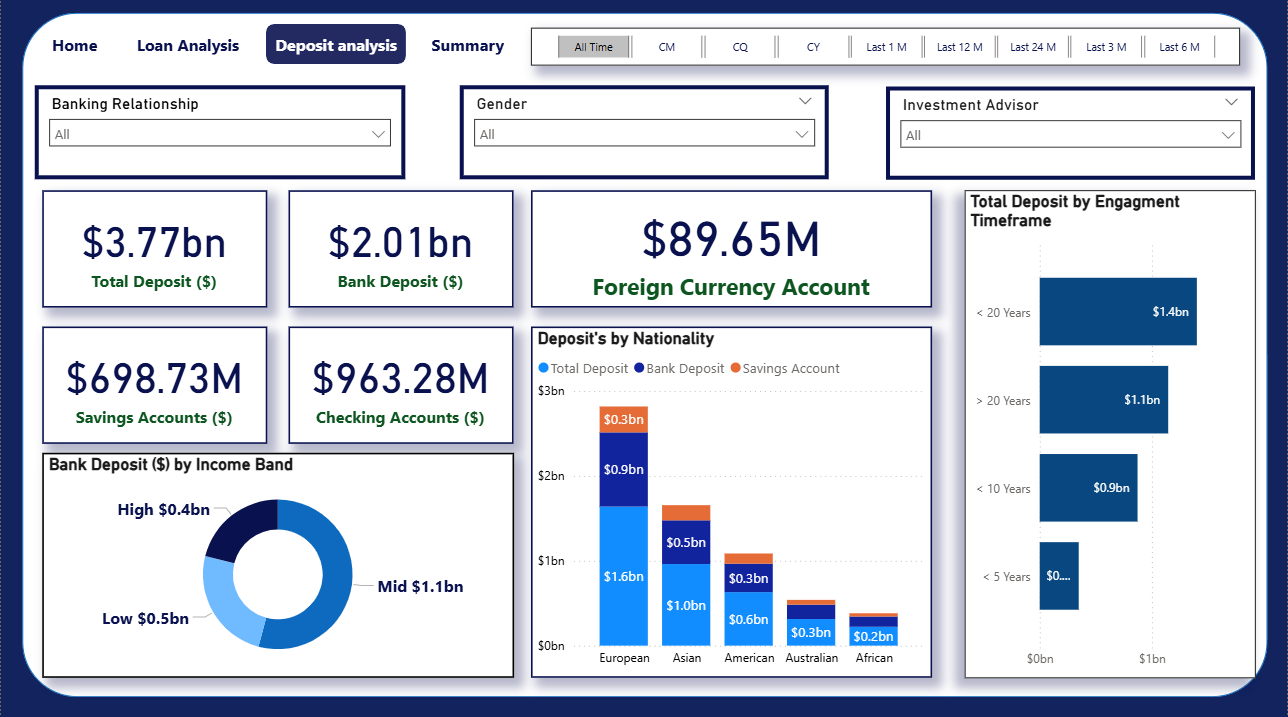

The dashboard page shown, as its layout file describes it:
{"tool":"powerbi","page":{"name":"Deposit Analysis ","canvas":[1280,720],"ordinal":2},"visuals":[{"type":"shape","box":[21.7,18.8,1239.2,681.1],"z":0},{"type":"actionButton","box":[125.6,29.9,120.7,39.8],"z":1000},{"type":"actionButton","box":[419.2,29.9,90.8,39.8],"z":2000},{"type":"actionButton","box":[263.7,29.9,139.3,39.8],"z":3000},{"type":"actionButton","box":[41.1,29.9,64.7,39.8],"z":4000},{"type":"slicer","fields":{"Values":["Period.Name"]},"box":[527.8,33.3,705.7,37.6],"z":5000},{"type":"slicer","fields":{"Values":["Banking Relationship.Banking Relationship"]},"box":[33.3,91.1,368.7,94],"z":6000},{"type":"slicer","fields":{"Values":["Gender.Gender"]},"box":[456.9,91.1,367.3,94],"z":7000},{"type":"slicer","fields":{"Values":["Investment Advisor.Investment Advisor"]},"box":[880.6,92.5,367.3,92.5],"z":8000},{"type":"card","fields":{"Values":["Dax Measures.Total Deposit"]},"box":[41.1,195.3,223.9,116.9],"z":9000},{"type":"card","fields":{"Values":["Dax Measures.Bank Deposit"]},"box":[286.1,195.3,223.9,116.9],"z":10000},{"type":"card","fields":{"Values":["Dax Measures.Savings Account"]},"box":[41.1,330.9,223.9,116.9],"z":11000},{"type":"card","fields":{"Values":["Dax Measures.Checking Accounts"]},"box":[286.1,330.9,223.9,116.9],"z":12000},{"type":"donutChart","title":"Bank Deposit ($) by Income Band","fields":{"Category":["Banking.Income Band"],"Y":["Dax Measures.Bank Deposit"]},"box":[40.5,456.9,470,224.1],"z":13000},{"type":"card","title":"Bank Loan by Banking Relationship ($)","fields":{"Values":["Dax Measures.Foreign Currency Account"]},"box":[527.8,195.2,399.1,117.1],"z":14000},{"type":"columnChart","title":"Deposit''s by Nationality ","fields":{"Category":["Banking.Nationality"],"Y":["Dax Measures.Total Deposit","Dax Measures.Bank Deposit","Dax Measures.Savings Account"]},"box":[527.8,331.1,399.1,349.9],"z":15000},{"type":"clusteredBarChart","fields":{"Category":["Banking.Engagment Timeframe"],"Y":["Dax Measures.Total Deposit"]},"box":[958.7,195.2,289.2,485.9],"z":16000}]}

Visuals, with their boxes in screenshot pixels (x1, y1, x2, y2), scaled from the page's 1280x720 canvas onto the 1288x717 screenshot:
shape: {"left": 22, "top": 19, "right": 1269, "bottom": 697}
actionButton: {"left": 126, "top": 30, "right": 248, "bottom": 69}
actionButton: {"left": 422, "top": 30, "right": 513, "bottom": 69}
actionButton: {"left": 265, "top": 30, "right": 406, "bottom": 69}
actionButton: {"left": 41, "top": 30, "right": 106, "bottom": 69}
slicer - Period.Name: {"left": 531, "top": 33, "right": 1241, "bottom": 71}
slicer - Banking Relationship.Banking Relationship: {"left": 34, "top": 91, "right": 405, "bottom": 184}
slicer - Gender.Gender: {"left": 460, "top": 91, "right": 829, "bottom": 184}
slicer - Investment Advisor.Investment Advisor: {"left": 886, "top": 92, "right": 1256, "bottom": 184}
card - Dax Measures.Total Deposit: {"left": 41, "top": 194, "right": 267, "bottom": 311}
card - Dax Measures.Bank Deposit: {"left": 288, "top": 194, "right": 513, "bottom": 311}
card - Dax Measures.Savings Account: {"left": 41, "top": 330, "right": 267, "bottom": 446}
card - Dax Measures.Checking Accounts: {"left": 288, "top": 330, "right": 513, "bottom": 446}
"Bank Deposit ($) by Income Band" donutChart: {"left": 41, "top": 455, "right": 514, "bottom": 678}
"Bank Loan by Banking Relationship ($)" card: {"left": 531, "top": 194, "right": 933, "bottom": 311}
"Deposit''s by Nationality " columnChart: {"left": 531, "top": 330, "right": 933, "bottom": 678}
clusteredBarChart - Banking.Engagment Timeframe x Dax Measures.Total Deposit: {"left": 965, "top": 194, "right": 1256, "bottom": 678}
